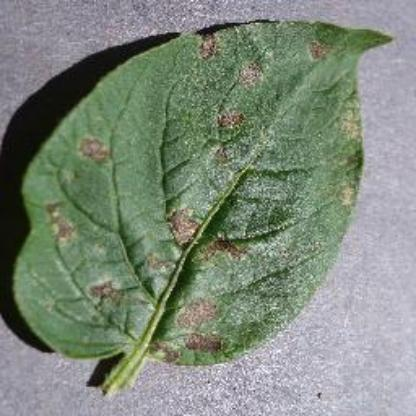Early-Blight: (10, 13, 416, 404)
